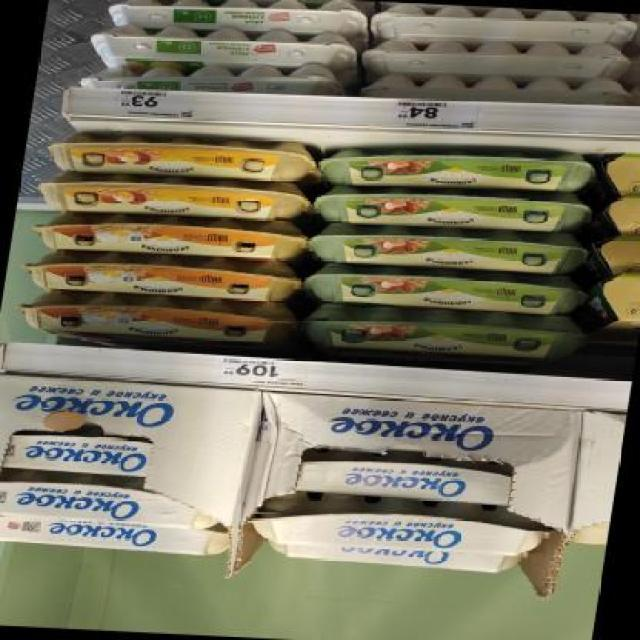Egg: (254, 491, 548, 559), (9, 288, 303, 350), (303, 303, 589, 364), (19, 248, 307, 304), (319, 141, 602, 197), (304, 262, 592, 316), (88, 21, 361, 77), (28, 209, 311, 263), (307, 222, 590, 276), (308, 182, 596, 235), (41, 129, 319, 183), (31, 169, 314, 222), (0, 469, 222, 531), (293, 449, 515, 507), (80, 55, 346, 99), (0, 511, 240, 555), (100, 0, 369, 37), (3, 429, 156, 477), (579, 273, 640, 339), (588, 233, 640, 275), (594, 196, 640, 238), (601, 154, 640, 196)
